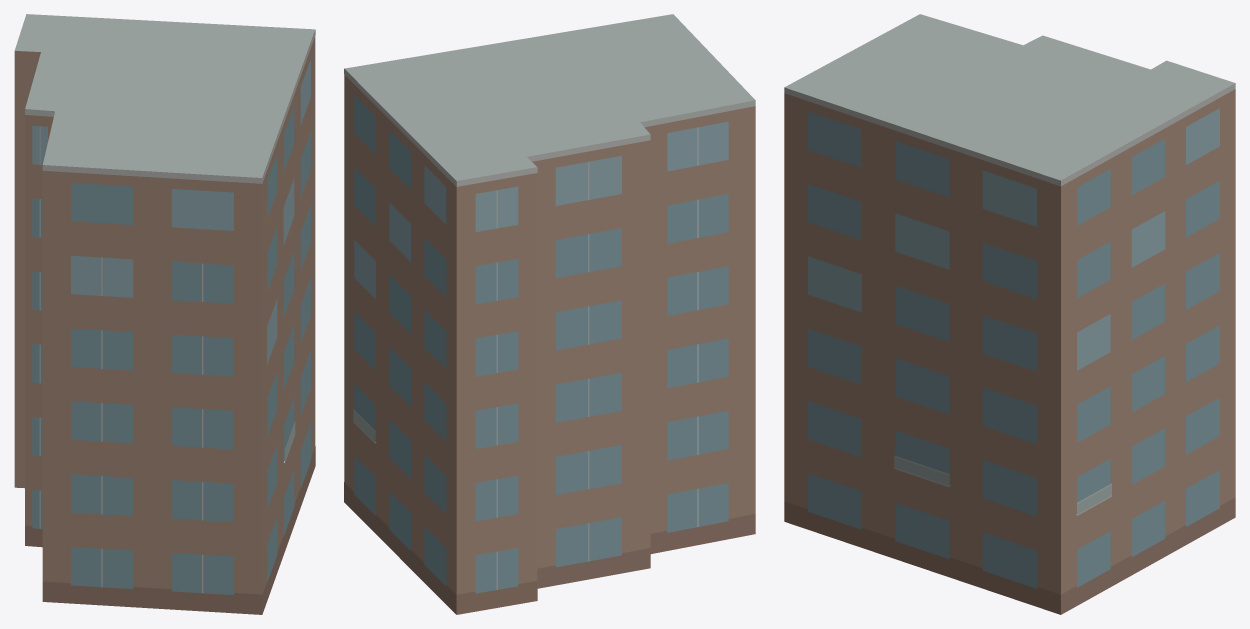
The model's file is survey-upis-32879337.glb.
3 views of the same model, side by side, from view 1: azimuth 30°, elevation 25°; view 2: azimuth 150°, elevation 25°; view 3: azimuth 270°, elevation 25° (orthographic).
Parts seen in each view (by area): view 1: survey-upis-32879337.tmp; view 2: survey-upis-32879337.tmp; view 3: survey-upis-32879337.tmp.
Boxes of the visible parts, x1=… form: survey-upis-32879337.tmp: x1=14, y1=14, x2=315, y2=614; survey-upis-32879337.tmp: x1=344, y1=14, x2=755, y2=614; survey-upis-32879337.tmp: x1=784, y1=14, x2=1235, y2=614.
Size of the model in its own units: 15.15 by 18.4 by 17.34.
